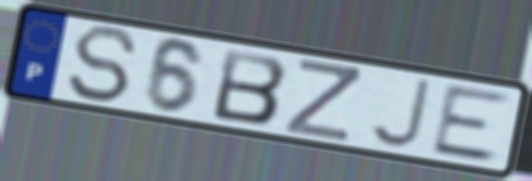6: (140, 36, 212, 116)
B: (209, 46, 291, 127)
E: (427, 83, 516, 165)
J: (366, 76, 434, 151)
S: (64, 23, 141, 106)
Z: (281, 55, 363, 145)
